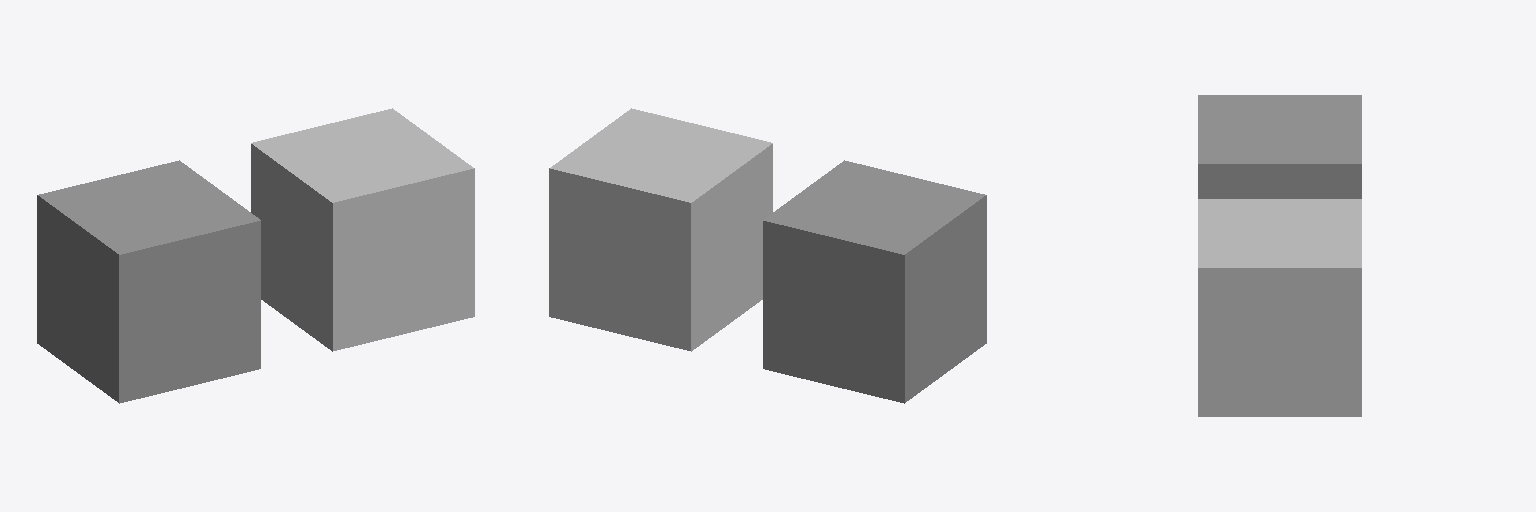
Rendered from twoBoxes.obj.
3 renders of one model, left to right at view 1: azimuth 30°, elevation 25°; view 2: azimuth 150°, elevation 25°; view 3: azimuth 270°, elevation 25°, orthographic.
Parts seen in each view (by area): view 1: Cube, Cube.001; view 2: Cube, Cube.001; view 3: Cube.001, Cube.
Boxes of the visible parts, x1,y1,x2,y2 form: Cube: [37, 160, 260, 403]; Cube.001: [251, 108, 474, 351]; Cube: [763, 160, 986, 403]; Cube.001: [549, 108, 772, 351]; Cube.001: [1198, 199, 1361, 416]; Cube: [1198, 95, 1361, 198].
Bounding box in the file's own units: 5 × 2 × 2.